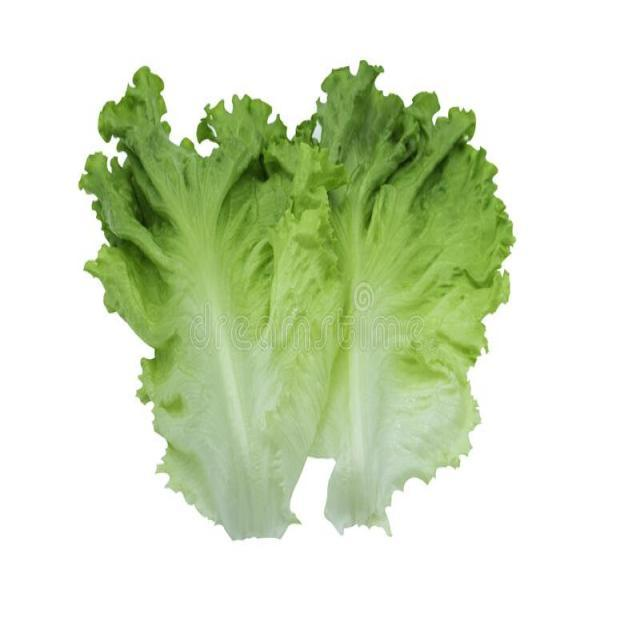Lettuce-Ready-to-Harvest: (81, 69, 338, 539), (312, 64, 512, 528)
